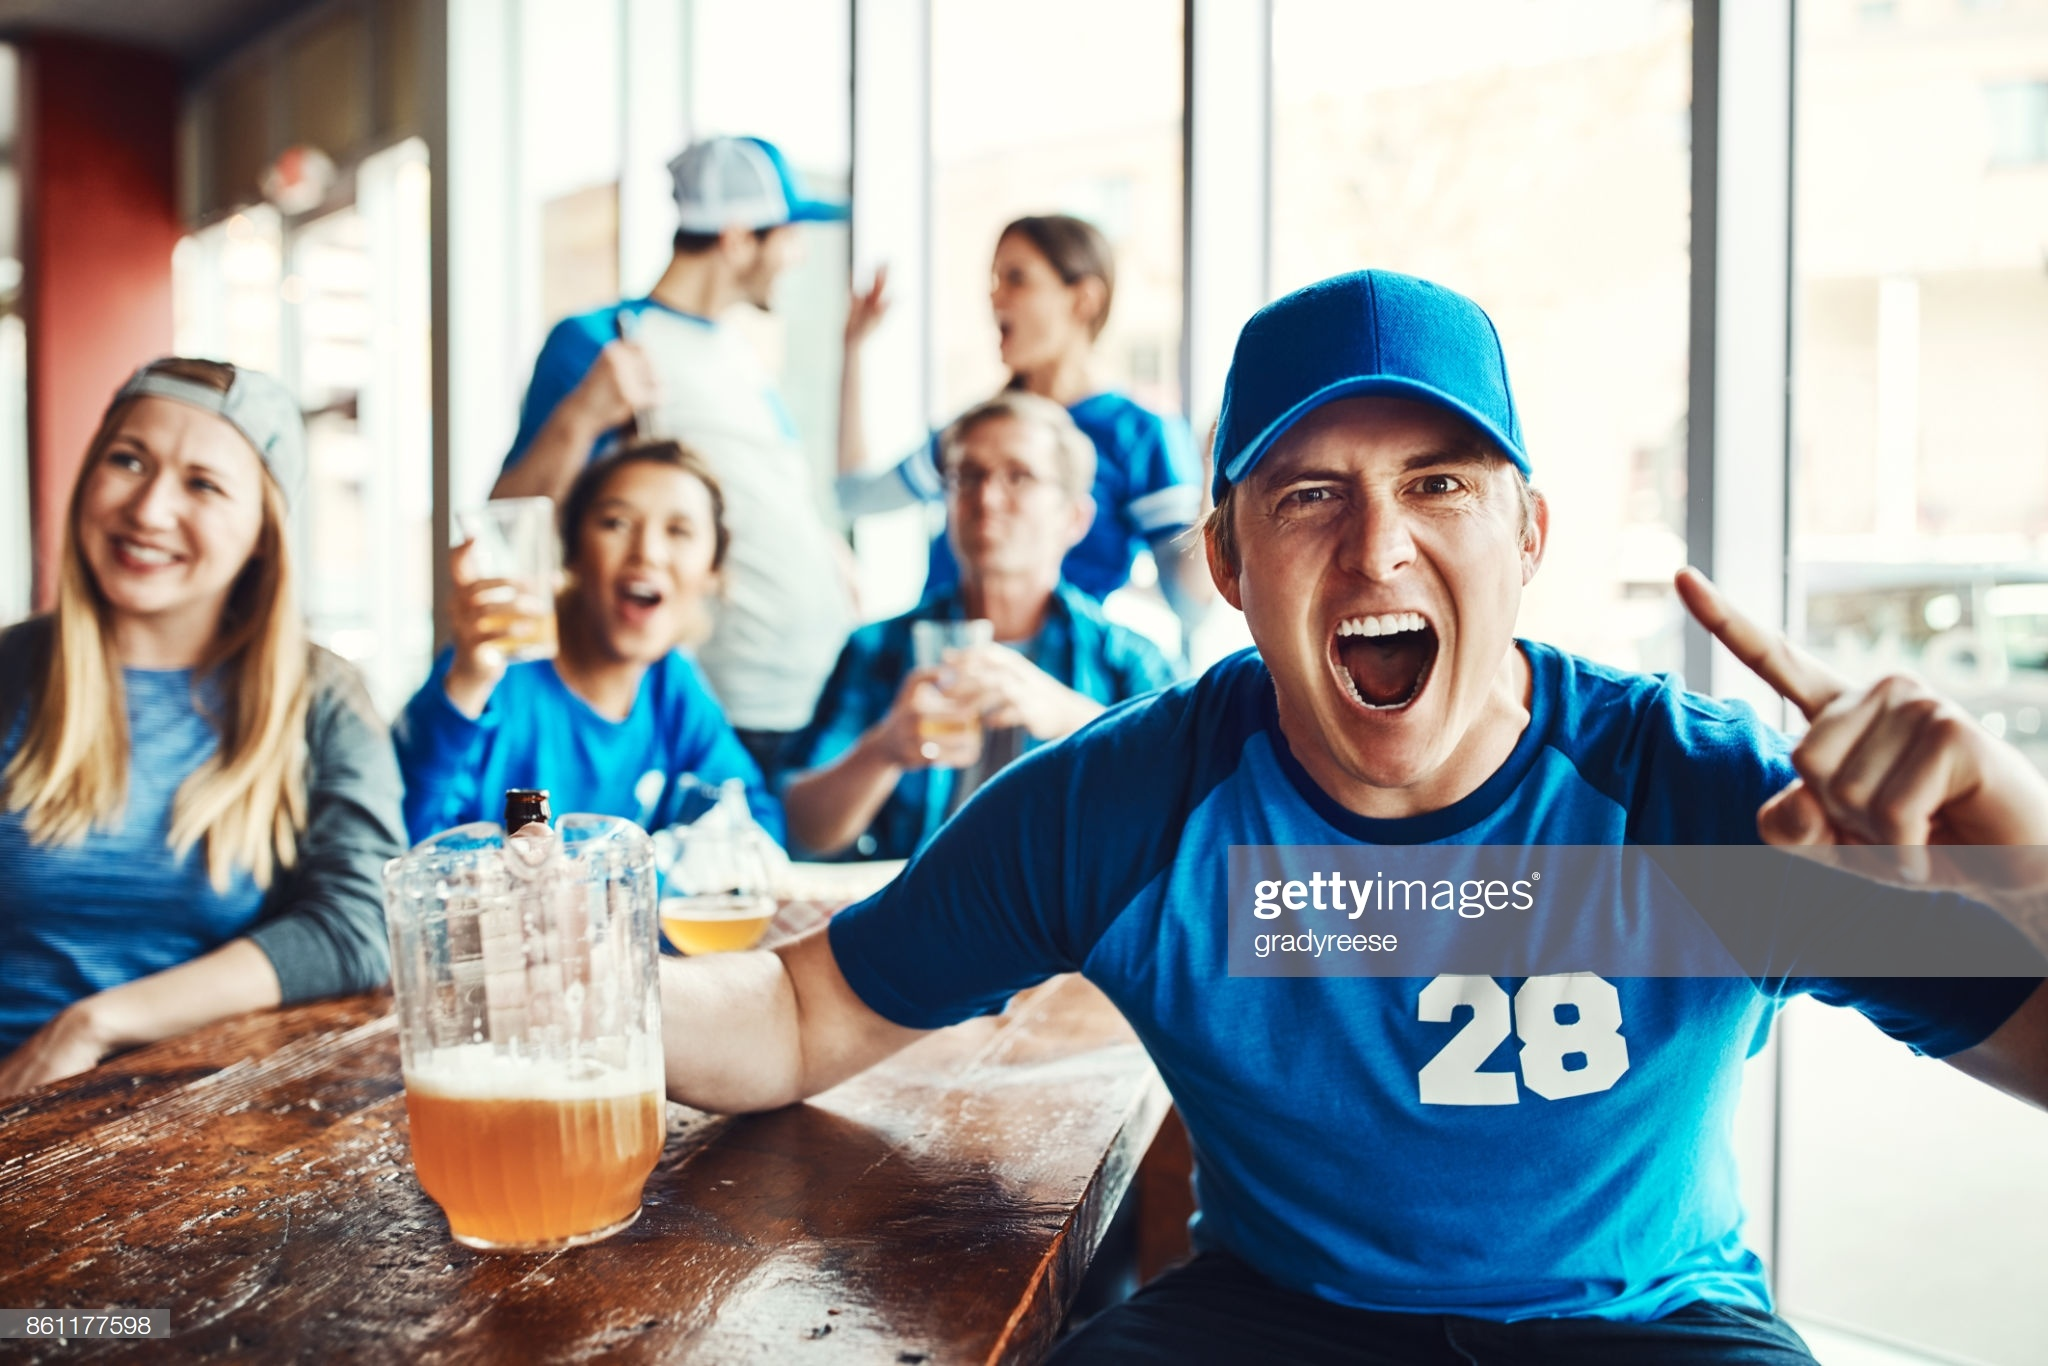glassBeer: (411, 831, 661, 1264)
